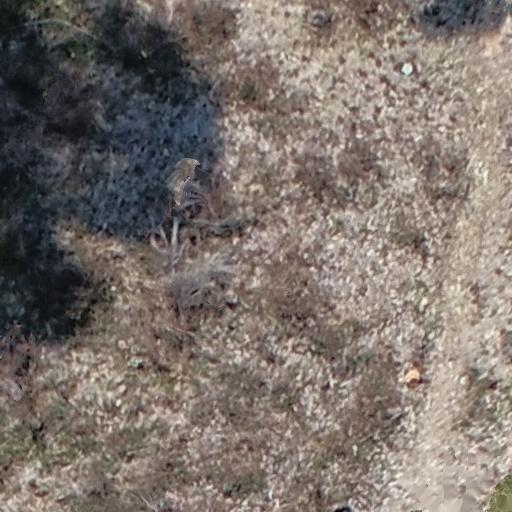stone: (246, 181, 266, 201), (395, 60, 417, 78), (401, 368, 423, 384), (308, 9, 328, 26), (127, 353, 146, 370), (224, 286, 239, 305), (459, 372, 471, 386), (419, 296, 429, 310), (117, 338, 128, 350), (158, 500, 168, 510)
